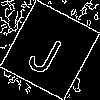J: (24, 25, 70, 77)
